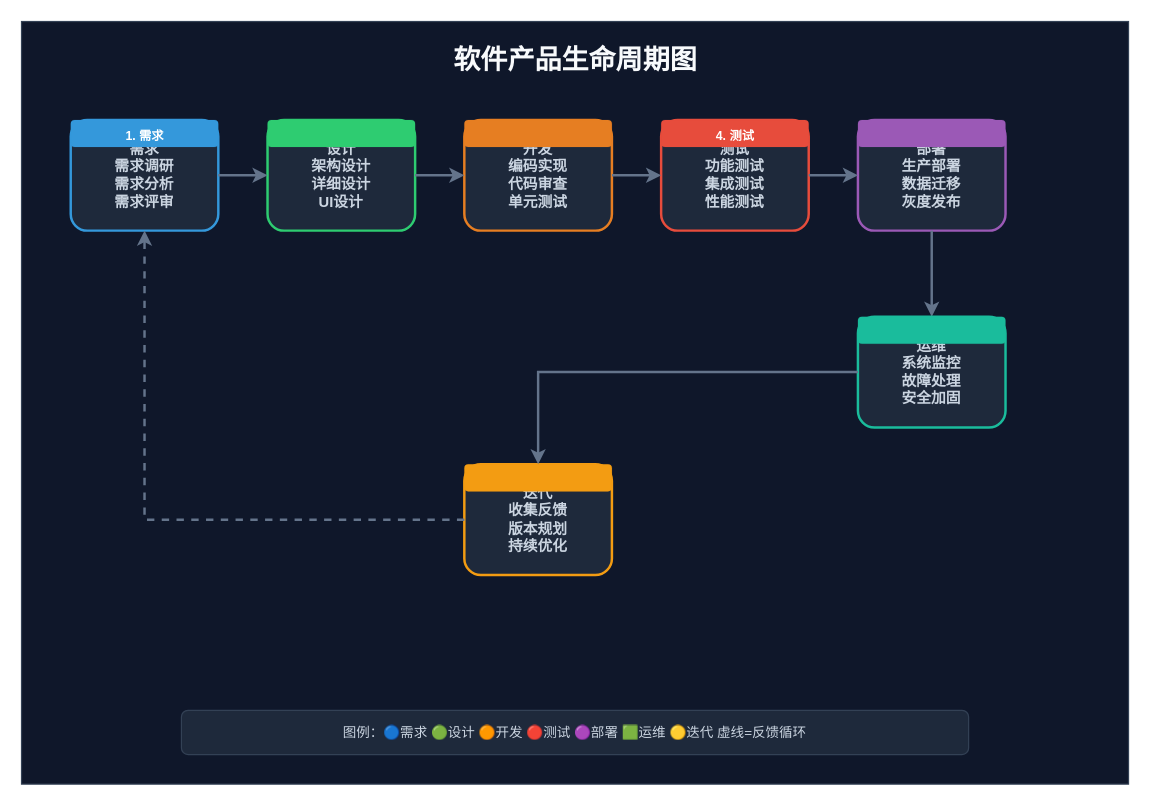
Some shapes in this 1150 by 806 pixel diagram are drawn without their labels. Here are the shapes that lost their labels. From the top down, the centre of each, then its label:
At (341,132): "2. 设计".
At (537,132): "3. 开发".
At (931,132): "5. 部署".
At (931,329): "6. 运维".
At (537,477): "7. 迭代".
